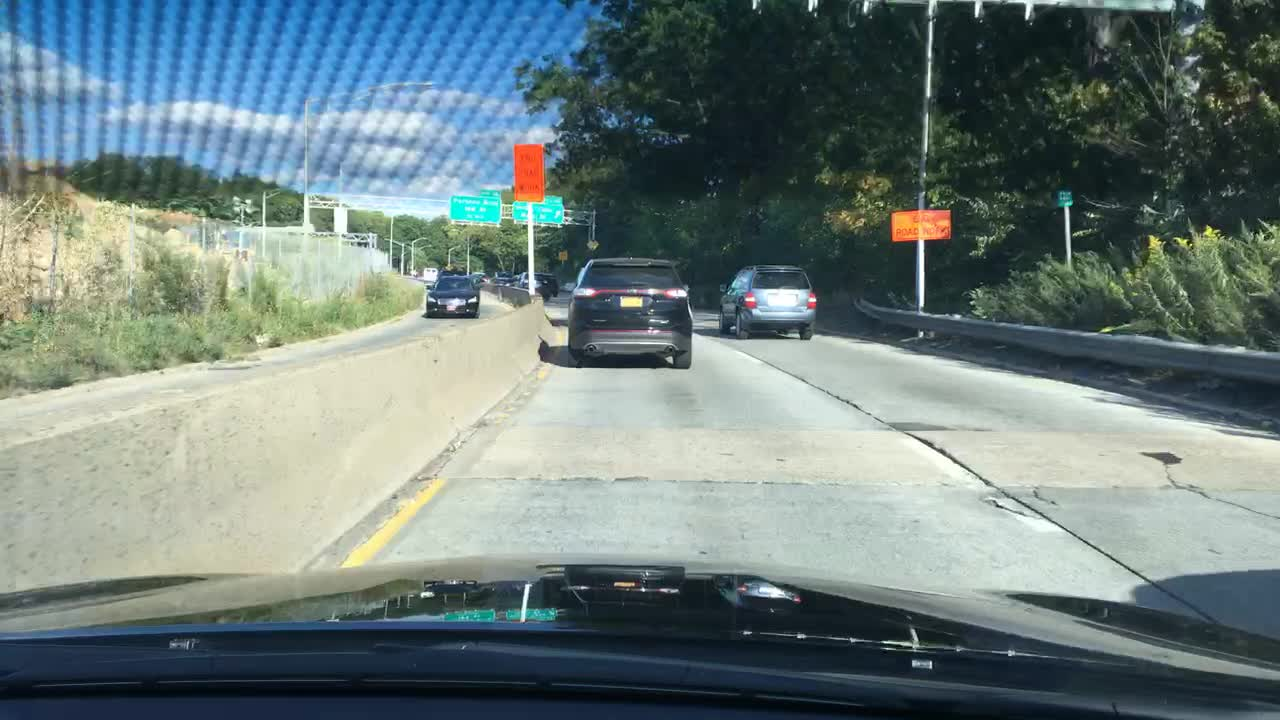car: (567, 258, 693, 369), (718, 264, 814, 339), (425, 274, 481, 318), (523, 271, 548, 295), (543, 271, 560, 296), (421, 267, 437, 286), (489, 276, 512, 284), (471, 271, 486, 282), (519, 271, 529, 287), (563, 281, 577, 292), (511, 273, 521, 281)
traffic sign: (514, 143, 543, 200), (890, 211, 951, 238), (449, 195, 500, 220), (512, 203, 563, 221), (1057, 191, 1073, 205), (481, 188, 501, 196), (585, 239, 599, 249), (544, 195, 564, 200), (559, 250, 567, 260)
